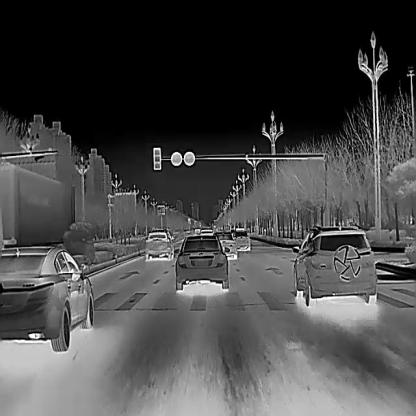car: (0, 245, 93, 350), (293, 222, 377, 306), (173, 232, 230, 290), (145, 227, 173, 260), (214, 231, 236, 259), (230, 226, 250, 250), (199, 228, 213, 242)
truck: (0, 160, 75, 269)
